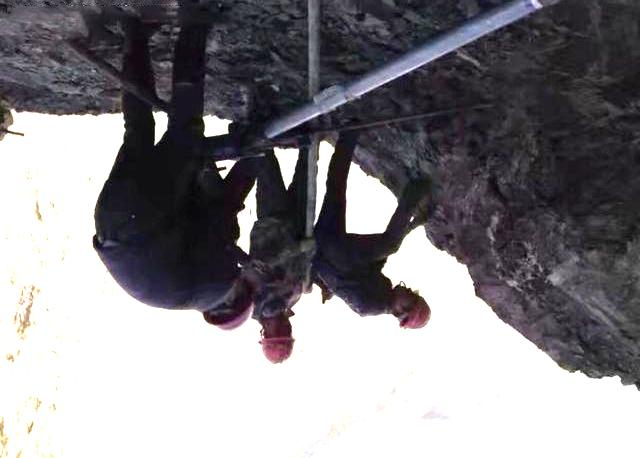helmet: (203, 276, 256, 331), (258, 314, 296, 365), (390, 283, 431, 330)
